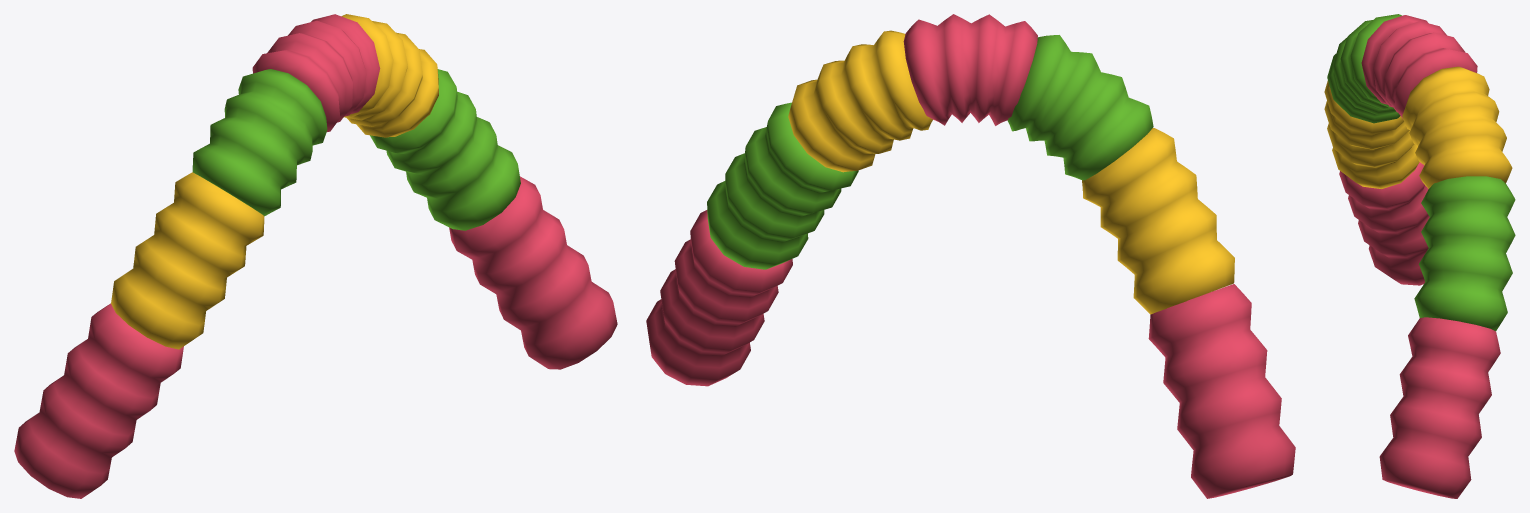
Rendered from gummy-worm-arch.glb.
3 views of the same model, side by side, from view 1: azimuth 30°, elevation 25°; view 2: azimuth 150°, elevation 25°; view 3: azimuth 270°, elevation 25° (orthographic). The views are drawn at different scales.
Parts seen in each view (by area): view 1: Ribbed fruit jelly, Ribbed fruit jelly.006, Ribbed fruit jelly.001, Ribbed fruit jelly.002, Ribbed fruit jelly.005, Ribbed fruit jelly.003, Ribbed fruit jelly.004; view 2: Ribbed fruit jelly, Ribbed fruit jelly.001, Ribbed fruit jelly.006, Ribbed fruit jelly.005, Ribbed fruit jelly.004, Ribbed fruit jelly.002, Ribbed fruit jelly.003; view 3: Ribbed fruit jelly.006, Ribbed fruit jelly.005, Ribbed fruit jelly.004, Ribbed fruit jelly, Ribbed fruit jelly.003, Ribbed fruit jelly.001, Ribbed fruit jelly.002.
Boxes of the visible parts, x1=… form: Ribbed fruit jelly: x1=14, y1=303, x2=183, y2=498; Ribbed fruit jelly.006: x1=449, y1=176, x2=617, y2=369; Ribbed fruit jelly.001: x1=111, y1=172, x2=264, y2=349; Ribbed fruit jelly.002: x1=192, y1=69, x2=327, y2=216; Ribbed fruit jelly.005: x1=370, y1=69, x2=520, y2=230; Ribbed fruit jelly.003: x1=252, y1=14, x2=380, y2=131; Ribbed fruit jelly.004: x1=341, y1=14, x2=438, y2=137; Ribbed fruit jelly: x1=1148, y1=284, x2=1295, y2=498; Ribbed fruit jelly.001: x1=1082, y1=128, x2=1234, y2=314; Ribbed fruit jelly.006: x1=646, y1=210, x2=792, y2=386; Ribbed fruit jelly.005: x1=707, y1=102, x2=858, y2=269; Ribbed fruit jelly.004: x1=788, y1=30, x2=932, y2=172; Ribbed fruit jelly.002: x1=1007, y1=35, x2=1153, y2=180; Ribbed fruit jelly.003: x1=903, y1=14, x2=1037, y2=125; Ribbed fruit jelly.006: x1=1379, y1=317, x2=1500, y2=498; Ribbed fruit jelly.005: x1=1414, y1=176, x2=1515, y2=331; Ribbed fruit jelly.004: x1=1402, y1=66, x2=1512, y2=188; Ribbed fruit jelly: x1=1339, y1=162, x2=1429, y2=285; Ribbed fruit jelly.003: x1=1361, y1=15, x2=1477, y2=118; Ribbed fruit jelly.001: x1=1324, y1=80, x2=1419, y2=188; Ribbed fruit jelly.002: x1=1327, y1=14, x2=1401, y2=123.
Size of the model in its own units: 4.49 by 2.87 by 1.38.
